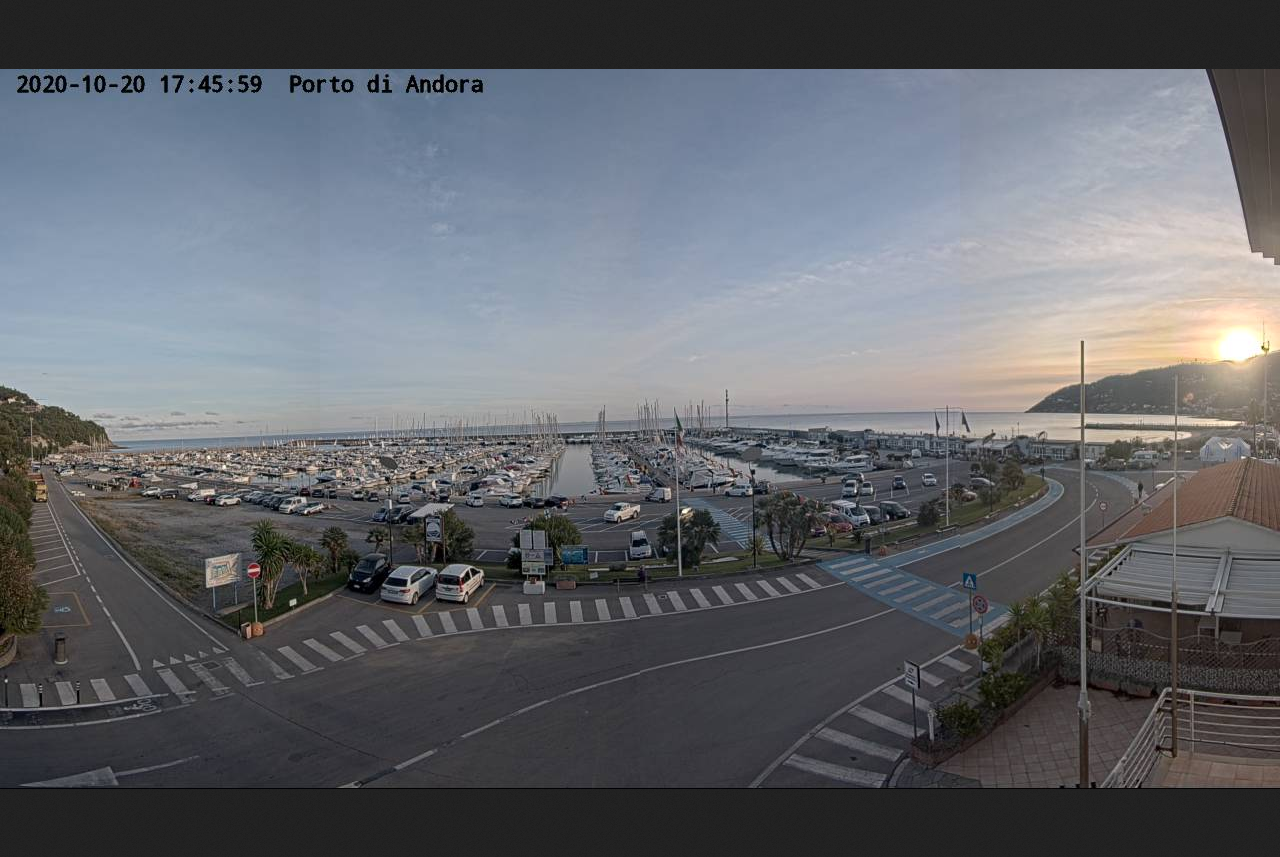no: (673, 407, 687, 451), (959, 408, 973, 434), (933, 407, 944, 437)
